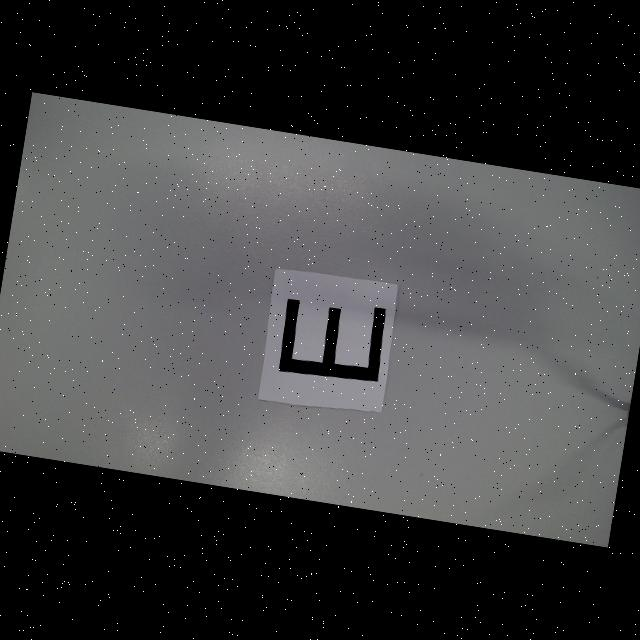FAKE: (277, 294, 389, 388)
